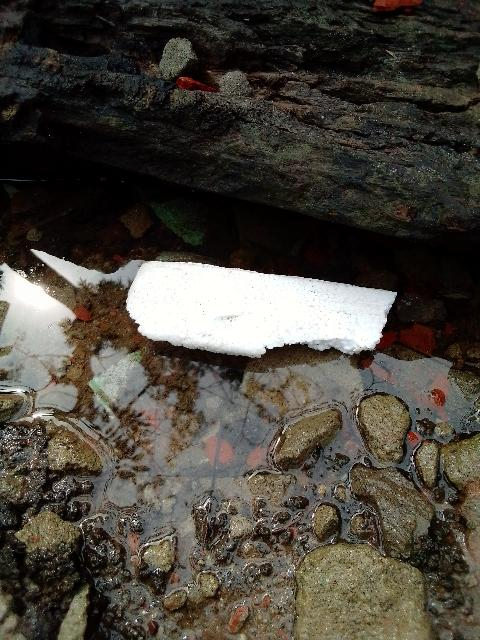cocksheet: (123, 255, 398, 375)
